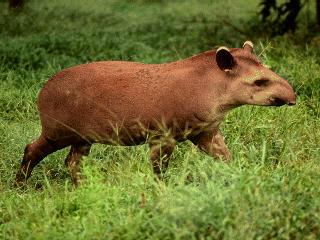Anta: (18, 39, 300, 189)
